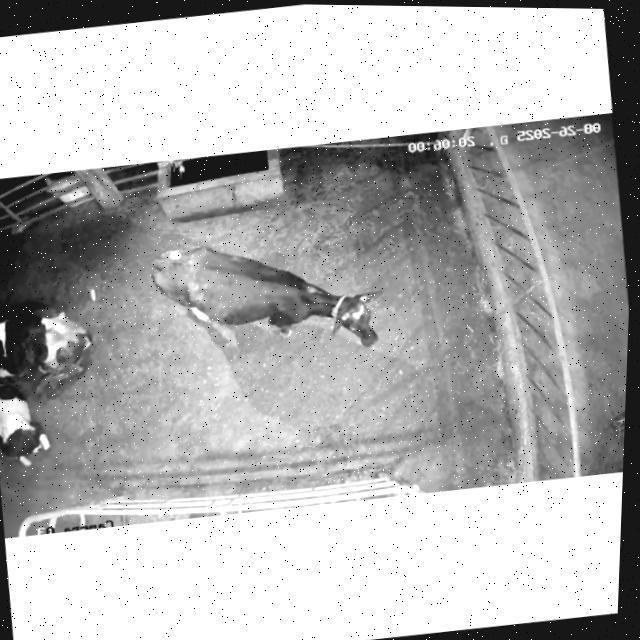stand: (151, 245, 380, 345)
